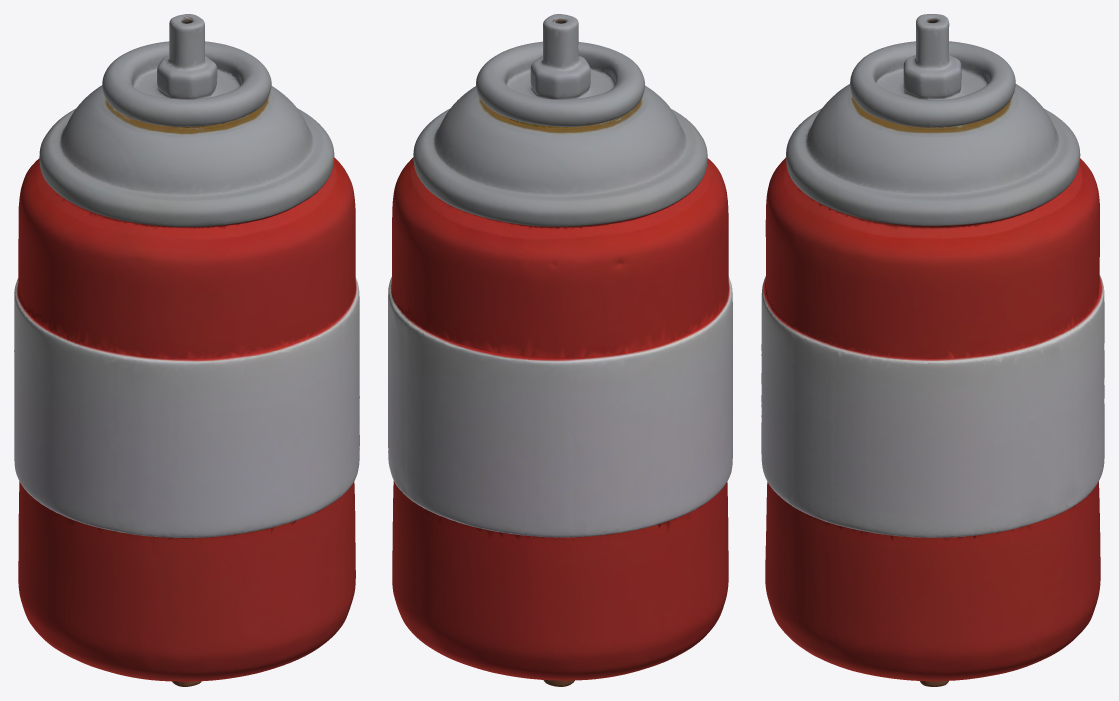
The model's file is CampButaneCan.glb.
3 views of the same model, side by side, from view 1: azimuth 30°, elevation 25°; view 2: azimuth 150°, elevation 25°; view 3: azimuth 270°, elevation 25° (orthographic).
Visible parts, largest first — view 1: tripo_node_52d8b6c9-e883-4a9d-9d37-8c41a583f507; view 2: tripo_node_52d8b6c9-e883-4a9d-9d37-8c41a583f507; view 3: tripo_node_52d8b6c9-e883-4a9d-9d37-8c41a583f507.
Boxes of the visible parts, x1=… form: tripo_node_52d8b6c9-e883-4a9d-9d37-8c41a583f507: x1=14, y1=14, x2=359, y2=686; tripo_node_52d8b6c9-e883-4a9d-9d37-8c41a583f507: x1=388, y1=14, x2=732, y2=686; tripo_node_52d8b6c9-e883-4a9d-9d37-8c41a583f507: x1=761, y1=14, x2=1104, y2=686.
Size of the model in its own units: 0.4739 by 1 by 0.4697.
1 material, 1 textured.
